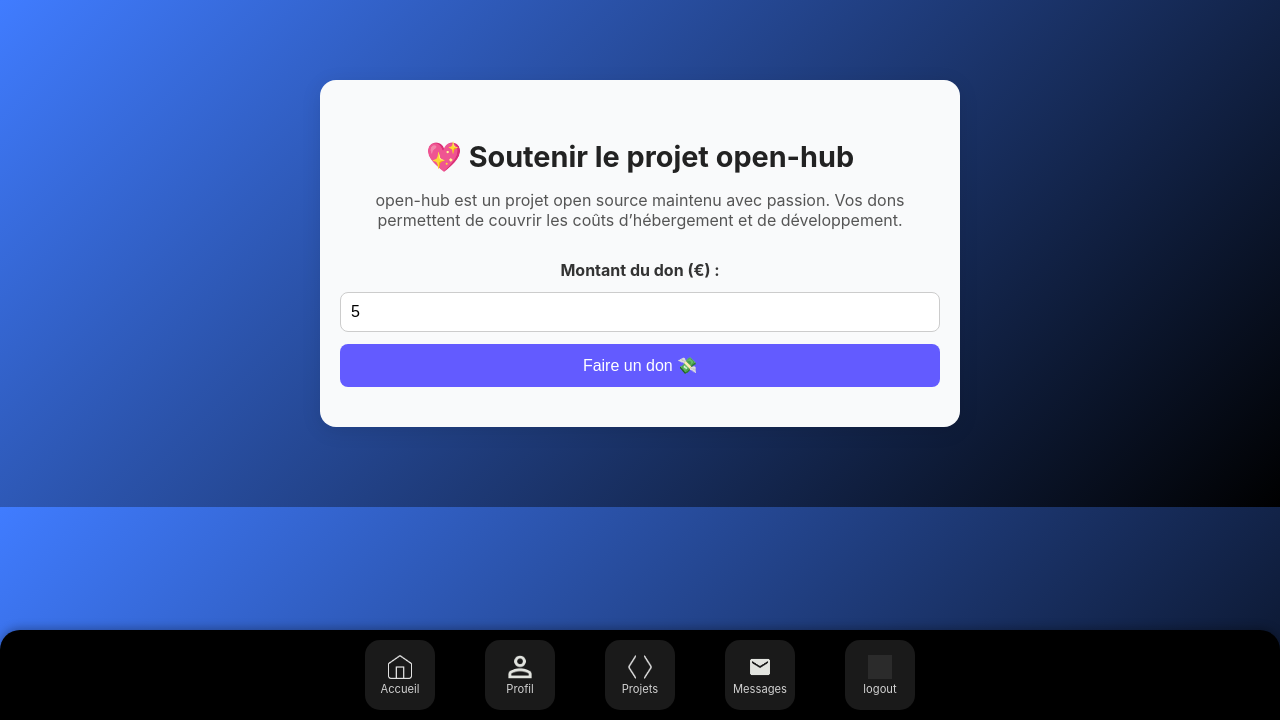
DonatePage Component › Gestion des erreurs › affiche un message d'erreur si la requête échoue
Click the button "Faire un don 💸": {"x": 640, "y": 366} [340,344,940,387]
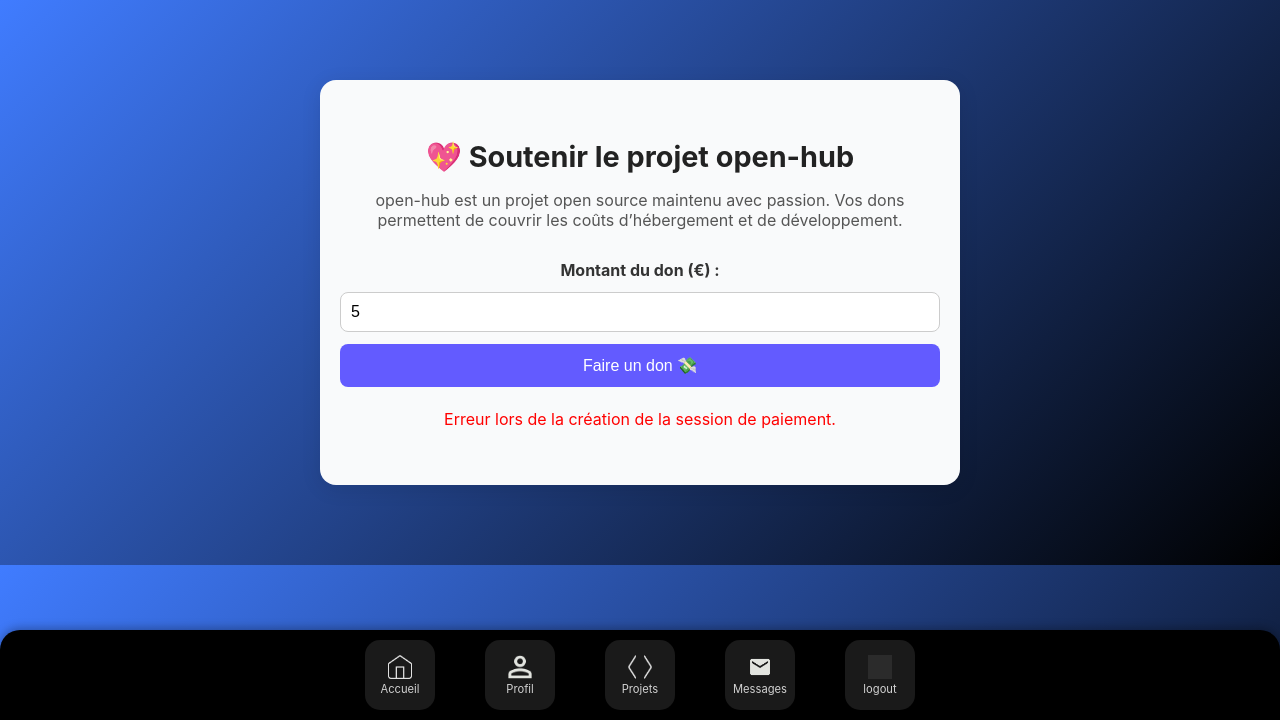
Now the text "Erreur lors de la création de la session de paiement" is shown, box [444,409,836,429]
